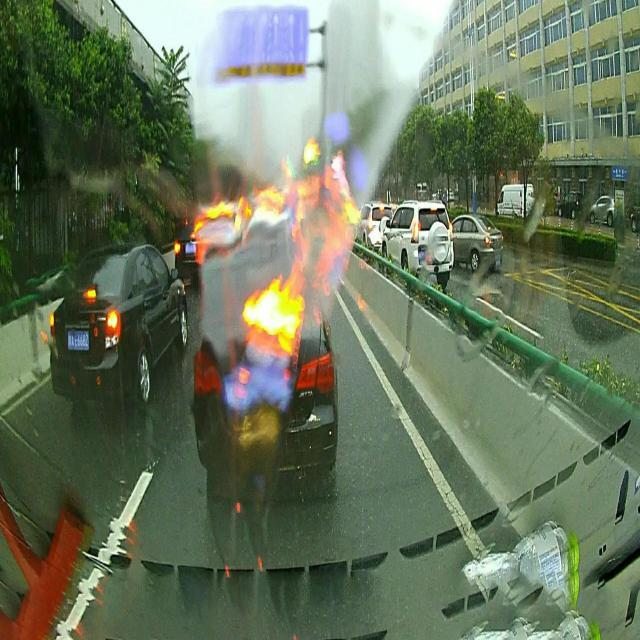car: (192, 285, 338, 486), (48, 241, 187, 404), (380, 200, 452, 286), (450, 215, 503, 270), (175, 224, 218, 282), (354, 196, 394, 255)
